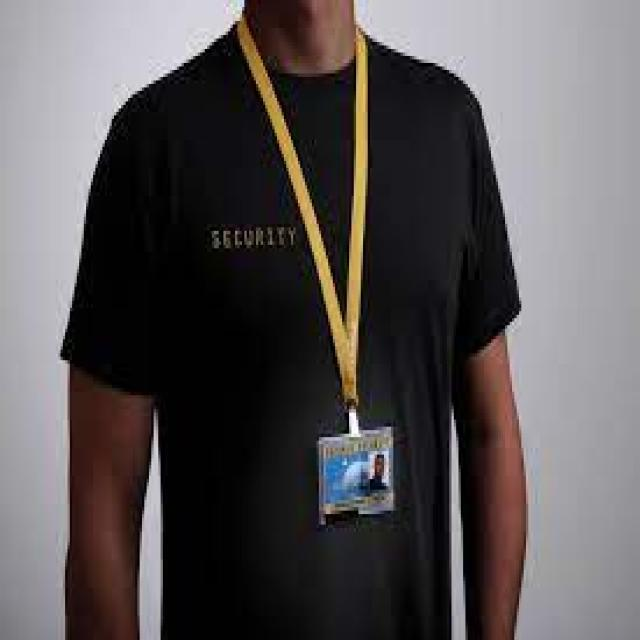id_card: (240, 19, 409, 528)
